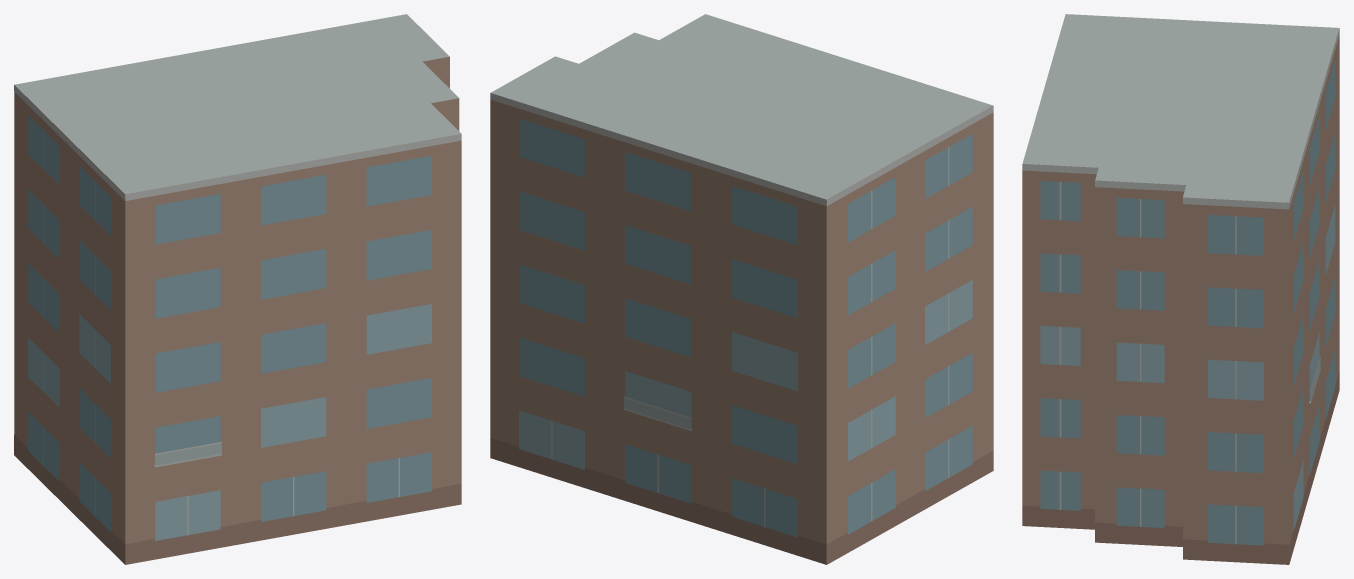
Rendered from survey-upis-32669978.glb.
3 renders of one model, left to right at view 1: azimuth 30°, elevation 25°; view 2: azimuth 150°, elevation 25°; view 3: azimuth 270°, elevation 25°, orthographic. The views are drawn at different scales.
Visible parts, largest first — view 1: survey-upis-32669978.tmp; view 2: survey-upis-32669978.tmp; view 3: survey-upis-32669978.tmp.
Boxes of the visible parts, left/top/right/bottom form: survey-upis-32669978.tmp: left=14, top=14, right=461, bottom=564; survey-upis-32669978.tmp: left=490, top=14, right=993, bottom=564; survey-upis-32669978.tmp: left=1022, top=14, right=1339, bottom=564.
Bounding box in the file's own units: 15 × 13.4 × 10.65.
